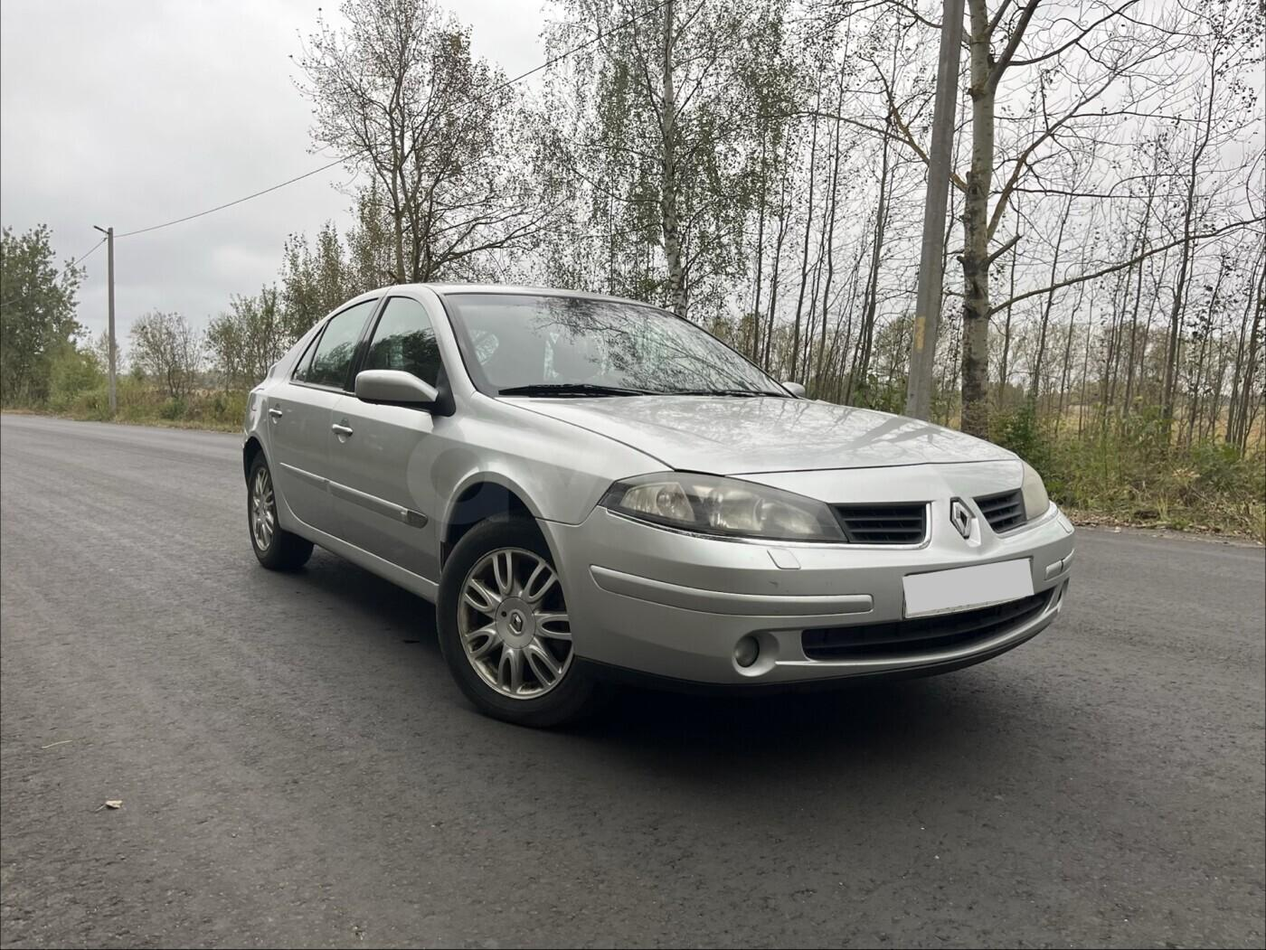Laguna_2005-2007: (242, 276, 1085, 715)
